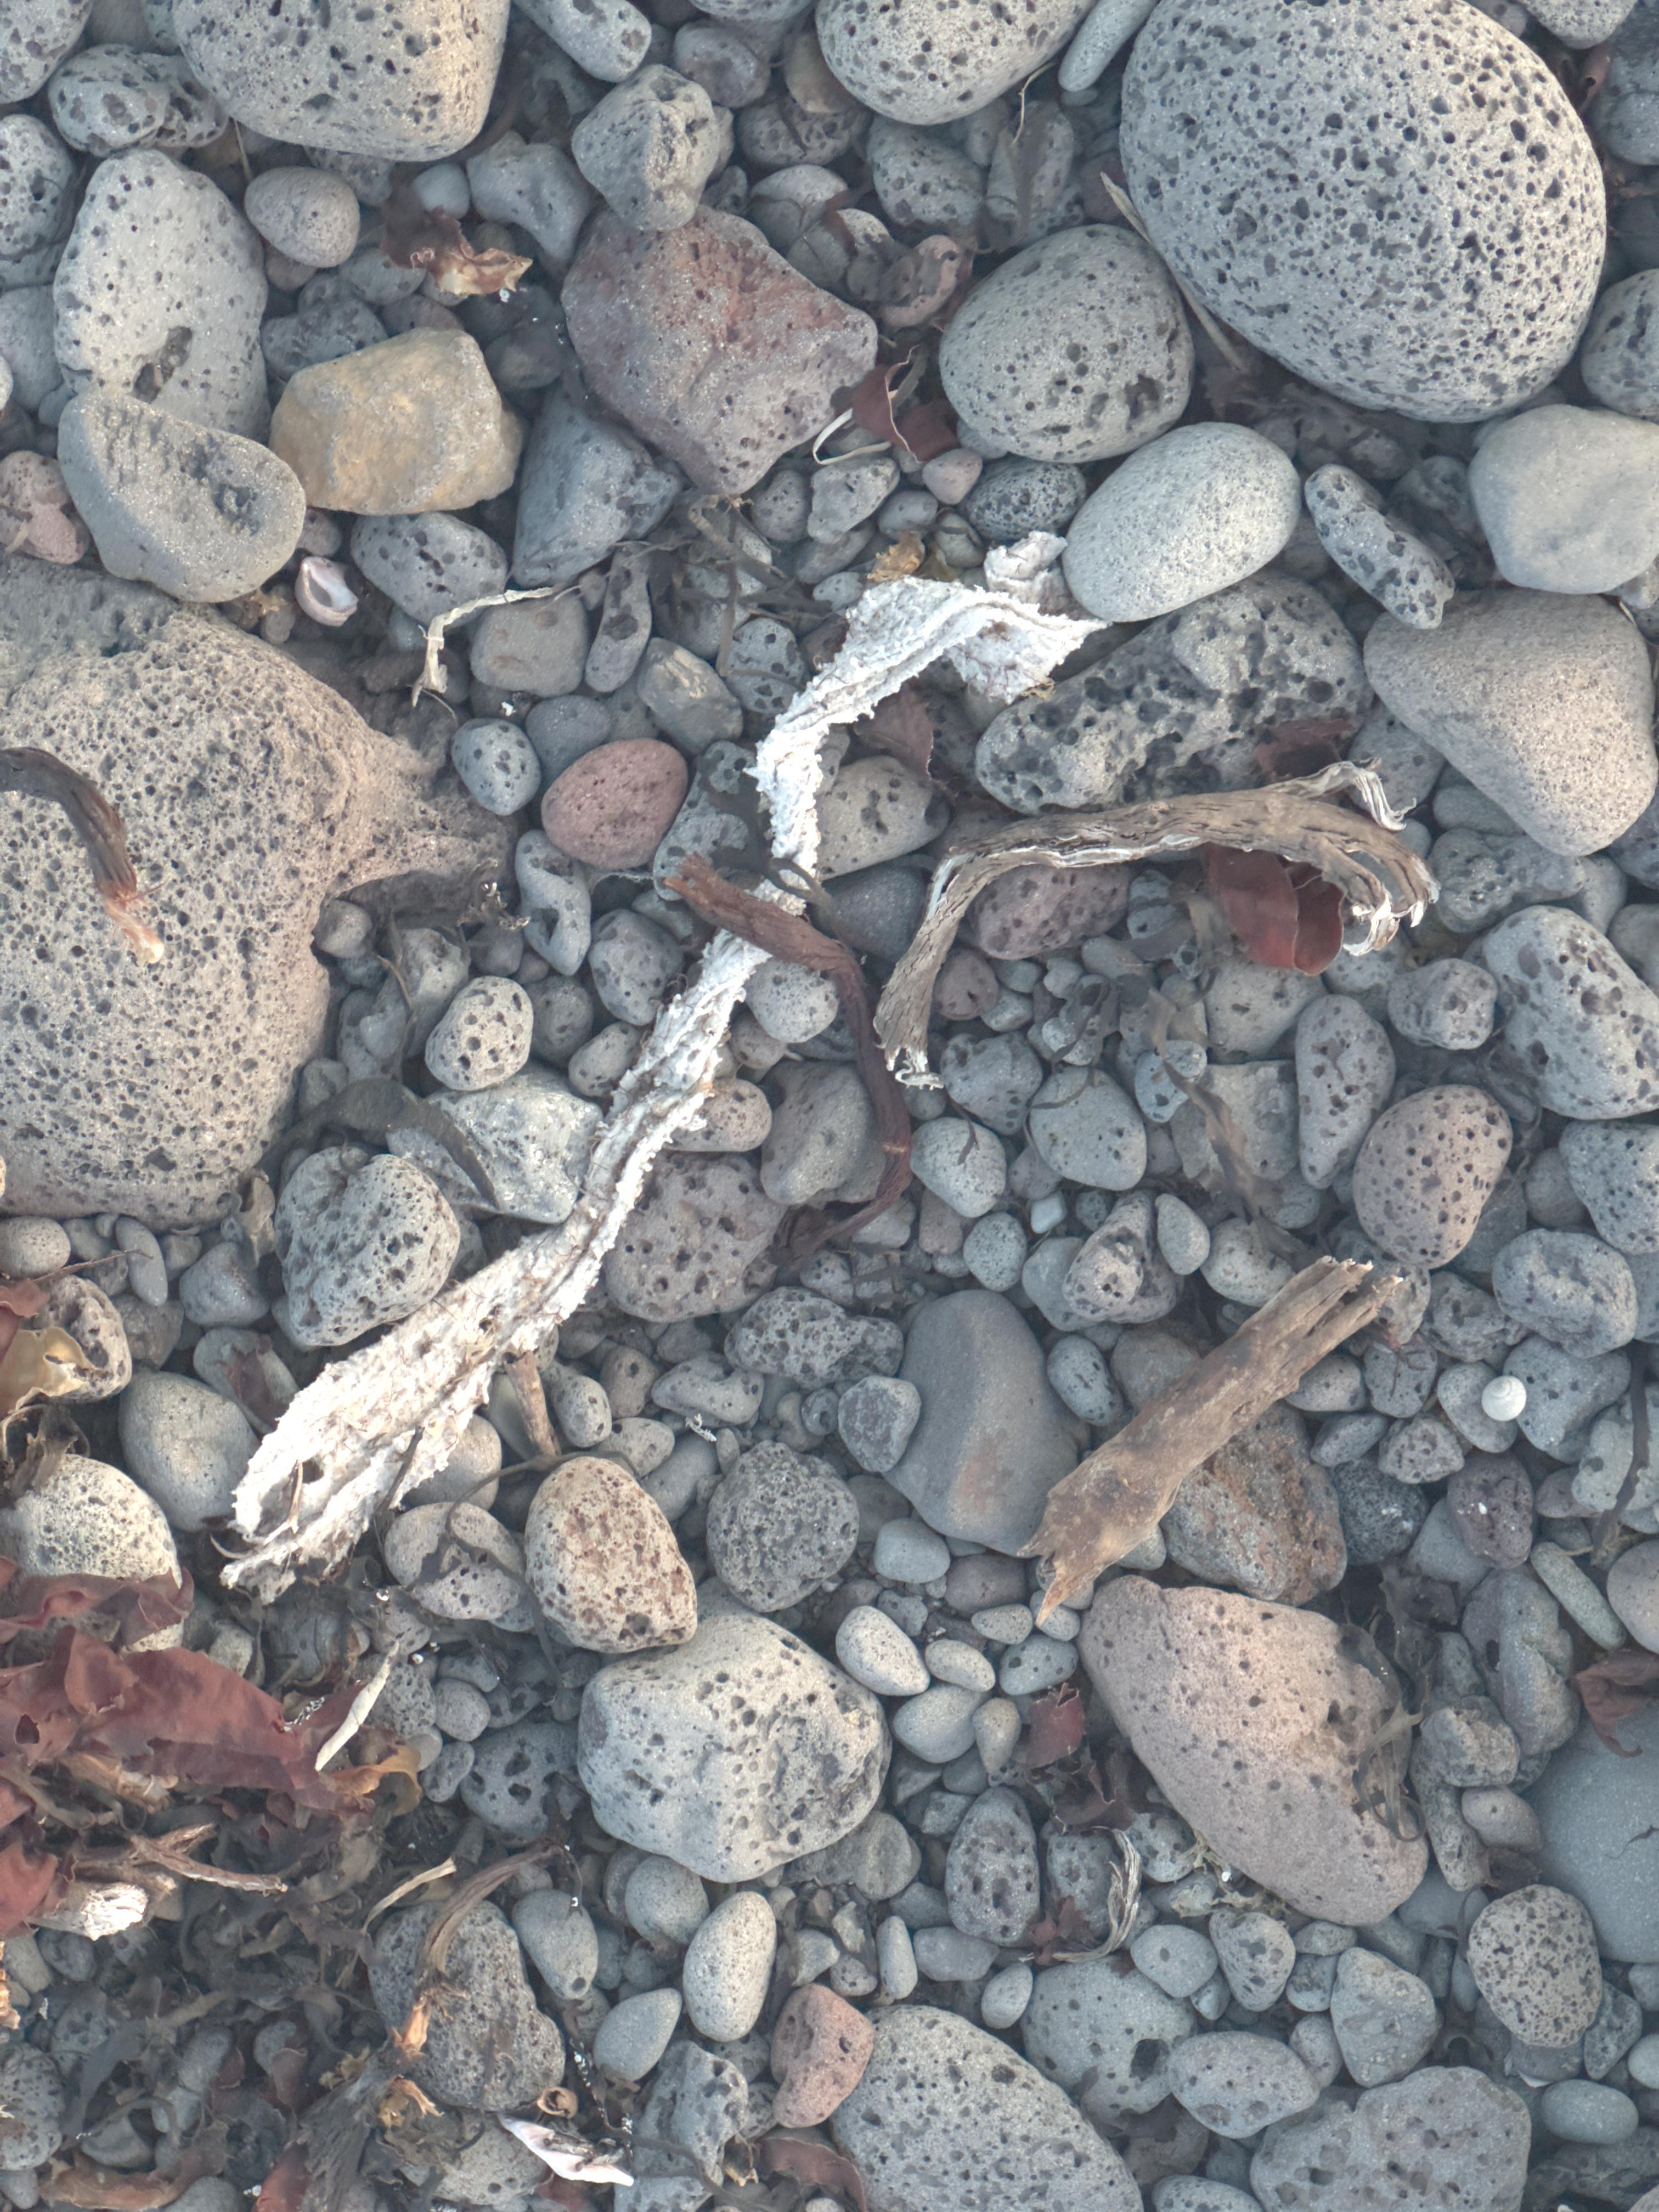trash: (225, 934, 765, 1594), (756, 578, 1098, 869)
